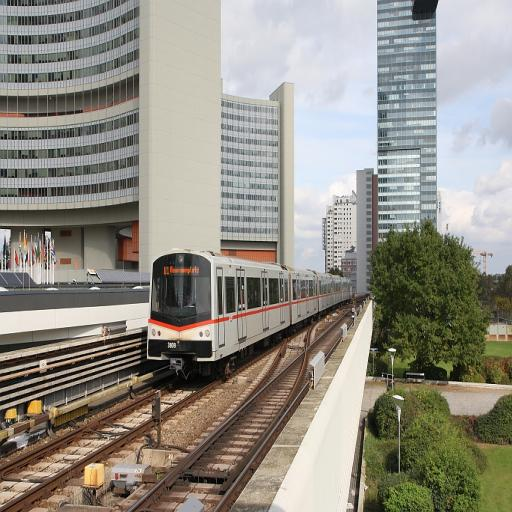V-Wagen: (145, 249, 352, 366)
